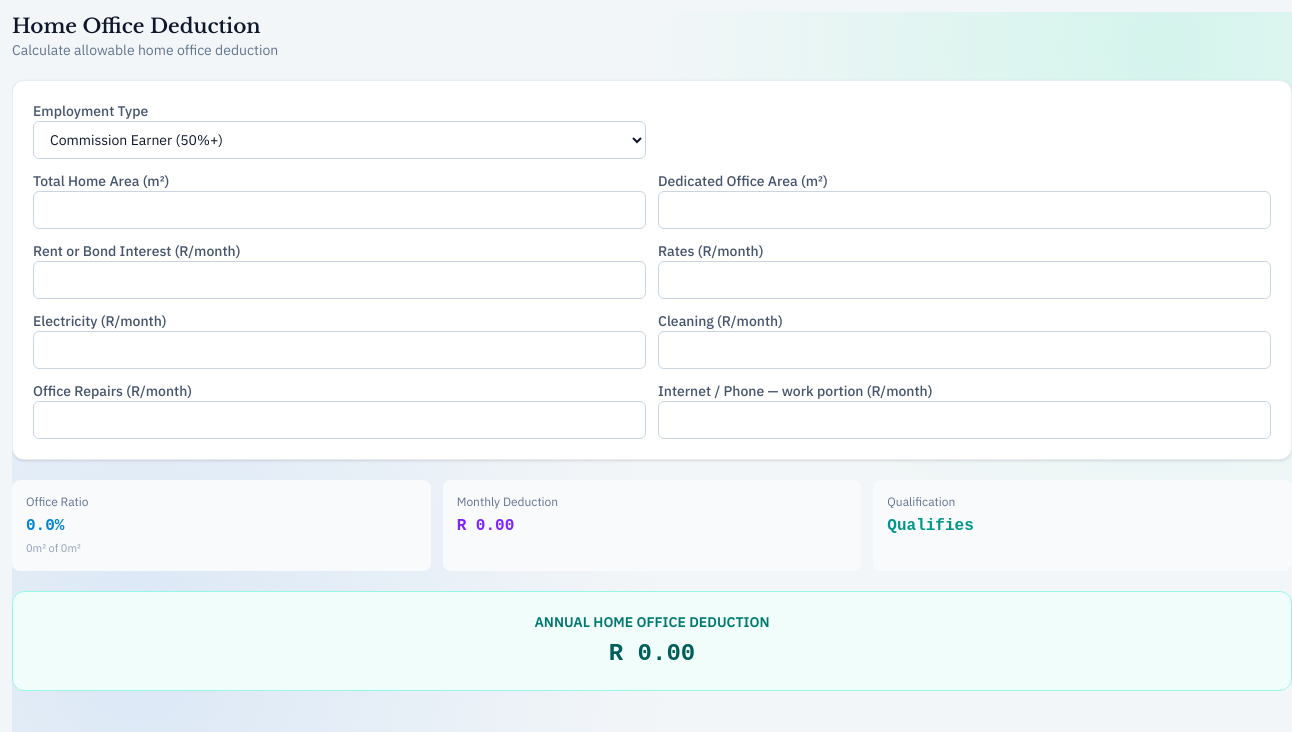
Test: HomeOfficeTab (CALC-05: SARS floor-area apportionment + s23(b)/s23(m) regression) › caps the office/total floor-area ratio at 100% when office area exceeds total area
The image size is (1292, 732).
Type "100" into the number field labelled "Total Home Area (m²)" at (340,210), box [33,191,646,229]
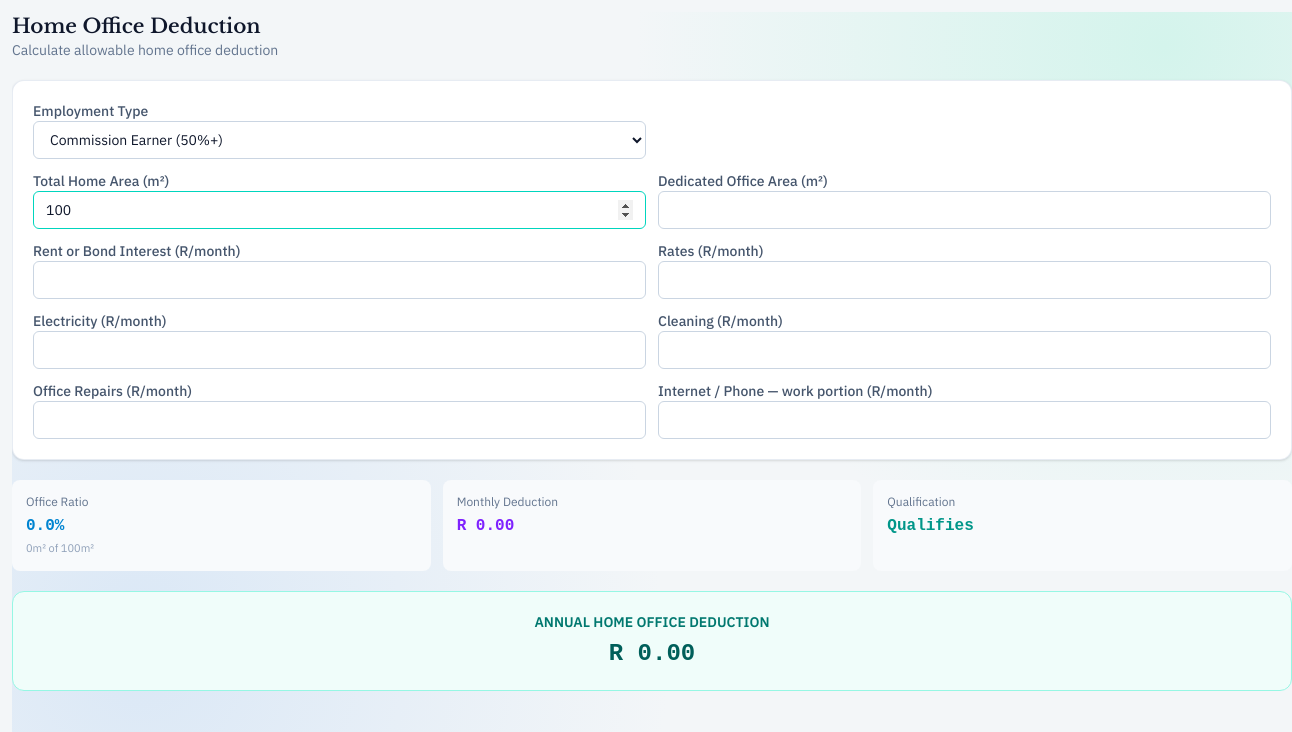
Type "200" into the number field labelled "Dedicated Office Area (m²)" at (964,210), box [658,191,1271,229]
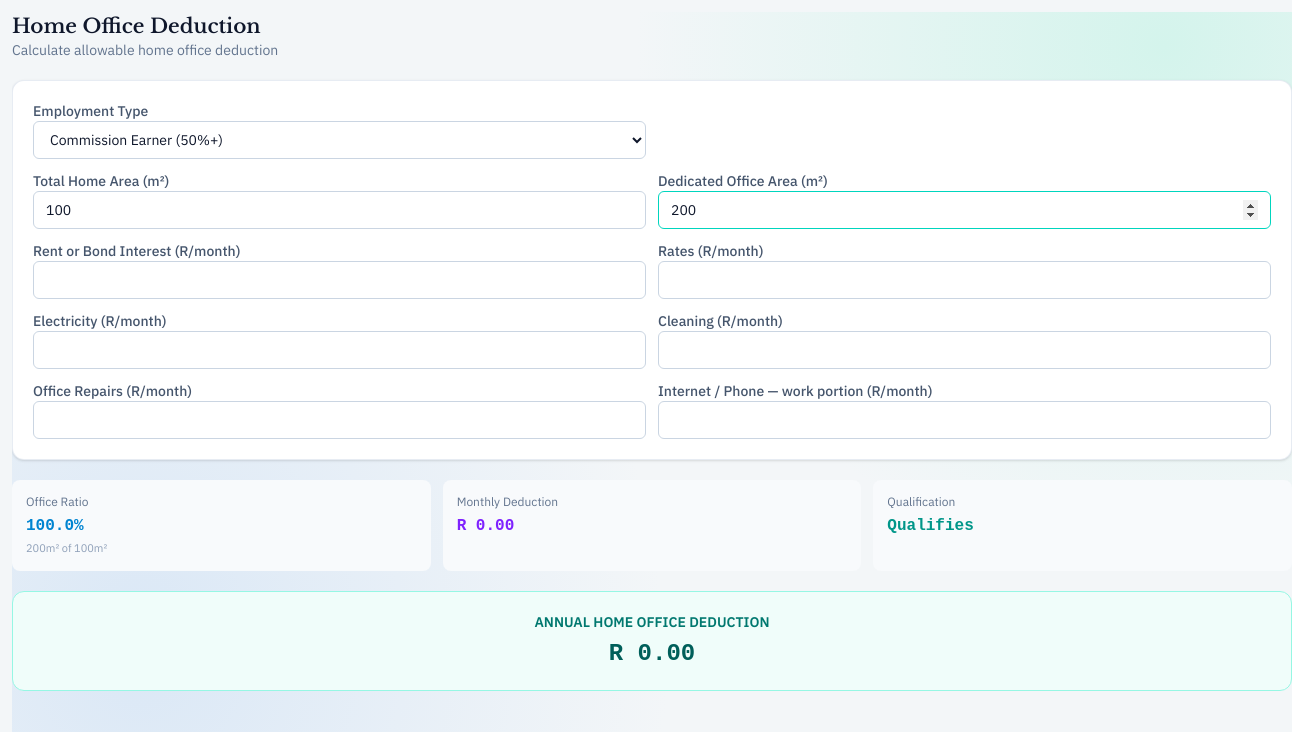
Now the text "100.0%" is shown, box [26,517,84,535]
